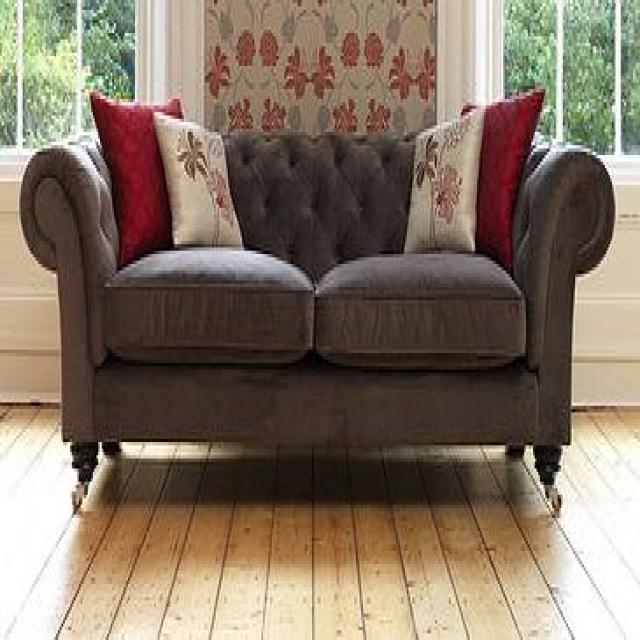sofa: (20, 91, 616, 517)
